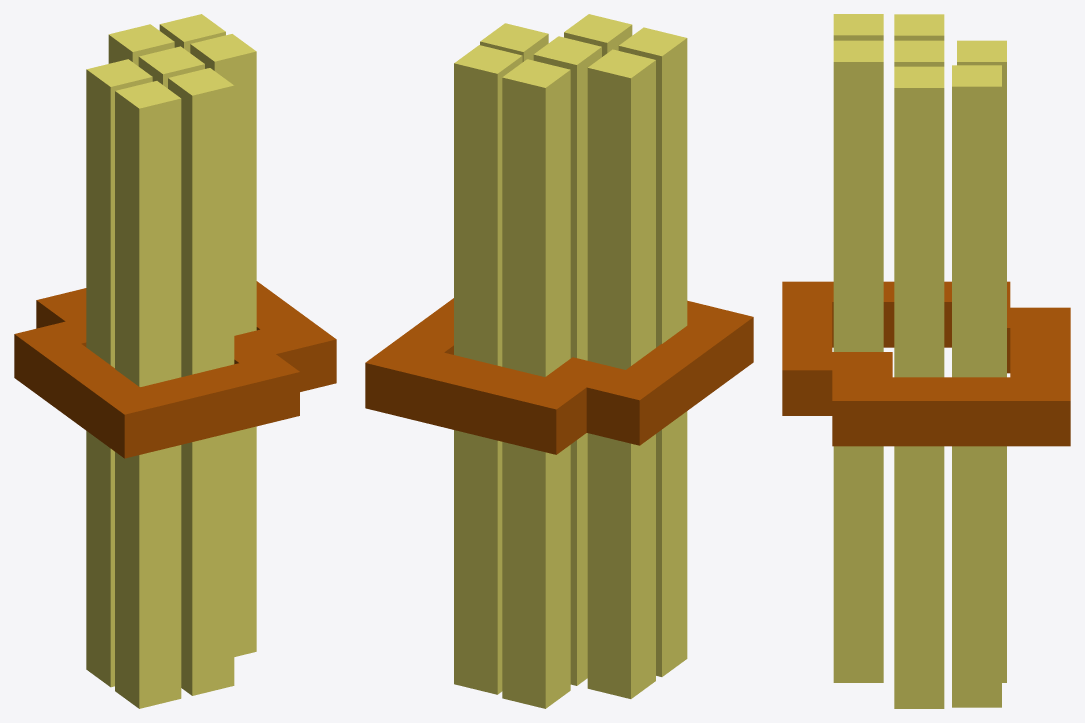
Rendered from wheat.fbx.
3 views of the same model, side by side, from view 1: azimuth 30°, elevation 25°; view 2: azimuth 150°, elevation 25°; view 3: azimuth 270°, elevation 25° (orthographic). The views are drawn at different scales.
Visible parts, largest first — view 1: Cube.006, Cube.001, Seil, Cube.002, Cube.003, Cube.004, Cube, Cube.005; view 2: Cube.002, Cube.004, Seil, Cube.005, Cube.006, Cube, Cube.001, Cube.003; view 3: Seil, Cube.003, Cube.005, Cube.001, Cube.004, Cube.002, Cube.006, Cube.
Part boxes in pixels (x1=…): Cube.006: x1=115, y1=81, x2=181, y2=708; Cube.001: x1=168, y1=68, x2=234, y2=695; Seil: x1=14, y1=281, x2=336, y2=458; Cube.002: x1=86, y1=59, x2=152, y2=687; Cube.003: x1=190, y1=34, x2=256, y2=656; Cube.004: x1=108, y1=24, x2=174, y2=66; Cube: x1=138, y1=46, x2=204, y2=88; Cube.005: x1=159, y1=14, x2=225, y2=52; Cube.002: x1=587, y1=49, x2=655, y2=698; Cube.004: x1=502, y1=59, x2=570, y2=708; Seil: x1=365, y1=298, x2=753, y2=454; Cube.005: x1=454, y1=45, x2=522, y2=694; Cube.006: x1=618, y1=27, x2=687, y2=676; Cube: x1=533, y1=36, x2=601, y2=685; Cube.001: x1=564, y1=14, x2=632, y2=56; Cube.003: x1=480, y1=23, x2=548, y2=61; Seil: x1=782, y1=281, x2=1070, y2=446; Cube.003: x1=894, y1=66, x2=944, y2=708; Cube.005: x1=952, y1=65, x2=1001, y2=707; Cube.001: x1=833, y1=40, x2=883, y2=682; Cube.004: x1=957, y1=40, x2=1006, y2=682; Cube.002: x1=894, y1=14, x2=944, y2=40; Cube.006: x1=833, y1=14, x2=883, y2=40; Cube: x1=894, y1=40, x2=944, y2=66.
Size of the model in its own units: 58.34 by 142 by 59.67.
